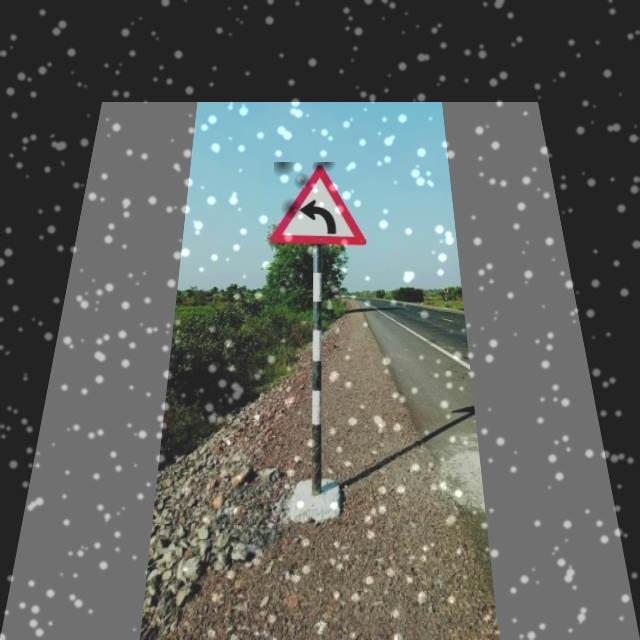Left_Hand_Curve: (274, 162, 363, 249)
